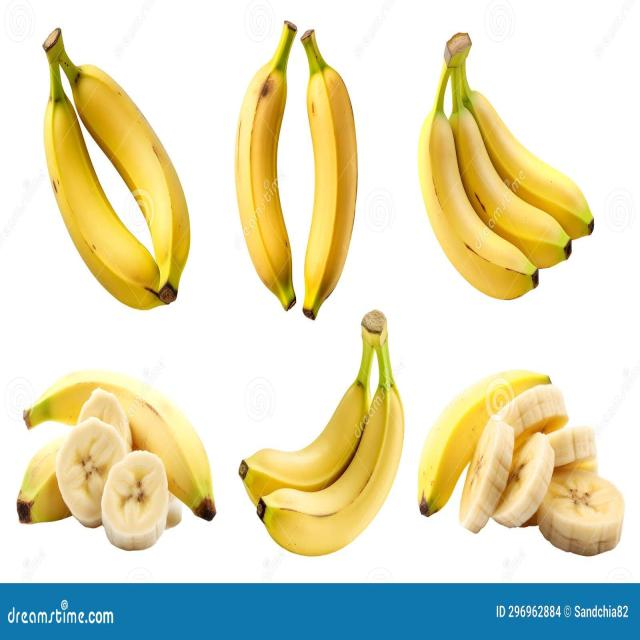Banana: (418, 33, 593, 299), (43, 29, 190, 310), (239, 310, 404, 555), (418, 370, 619, 554), (17, 371, 216, 550), (235, 22, 296, 310), (301, 30, 357, 319)
